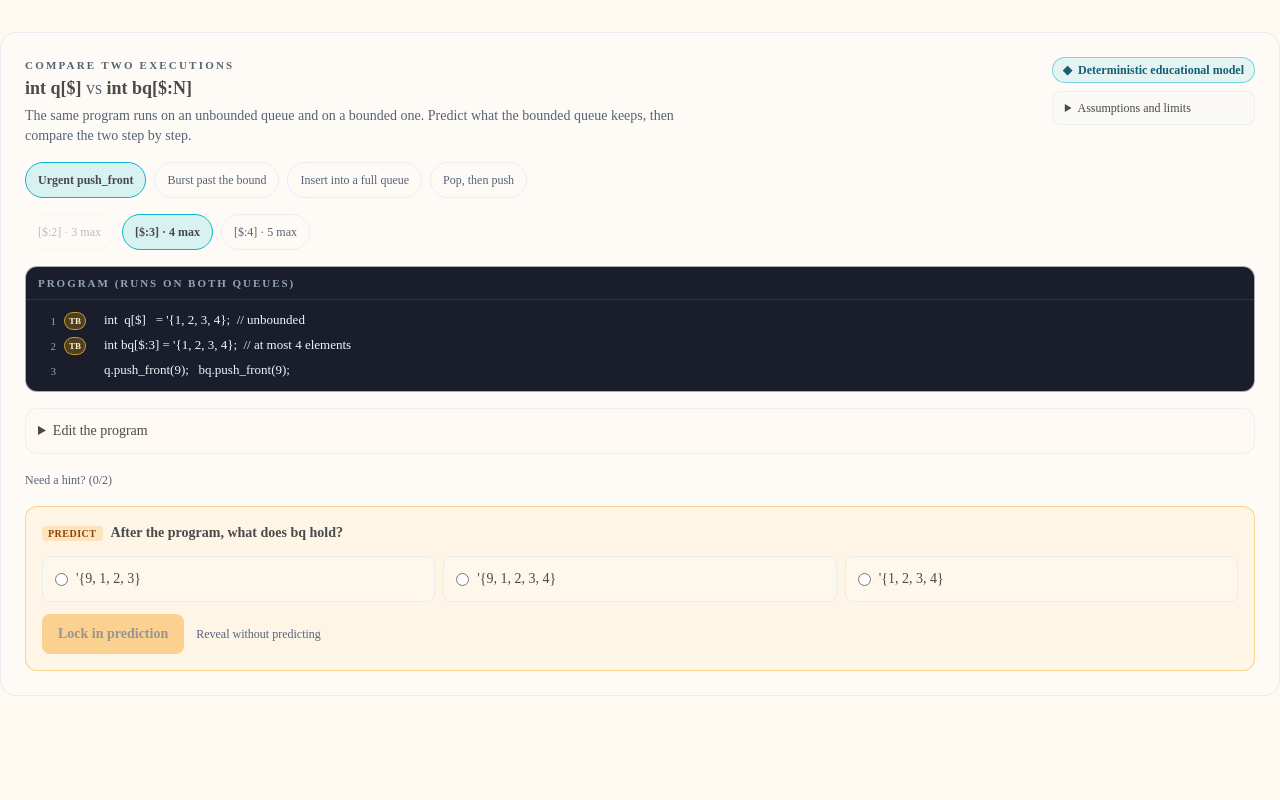
Test: QueueOperationLab (q[$] vs q[$:N]) › §7.10.5: hides the comparison until the learner predicts push_front on a full bq[$:3]
The width and height of the screenshot is (1280, 800).
Click the radio button labelled "'{1, 2, 3, 4}" at (864, 580), box [858,573,871,586]
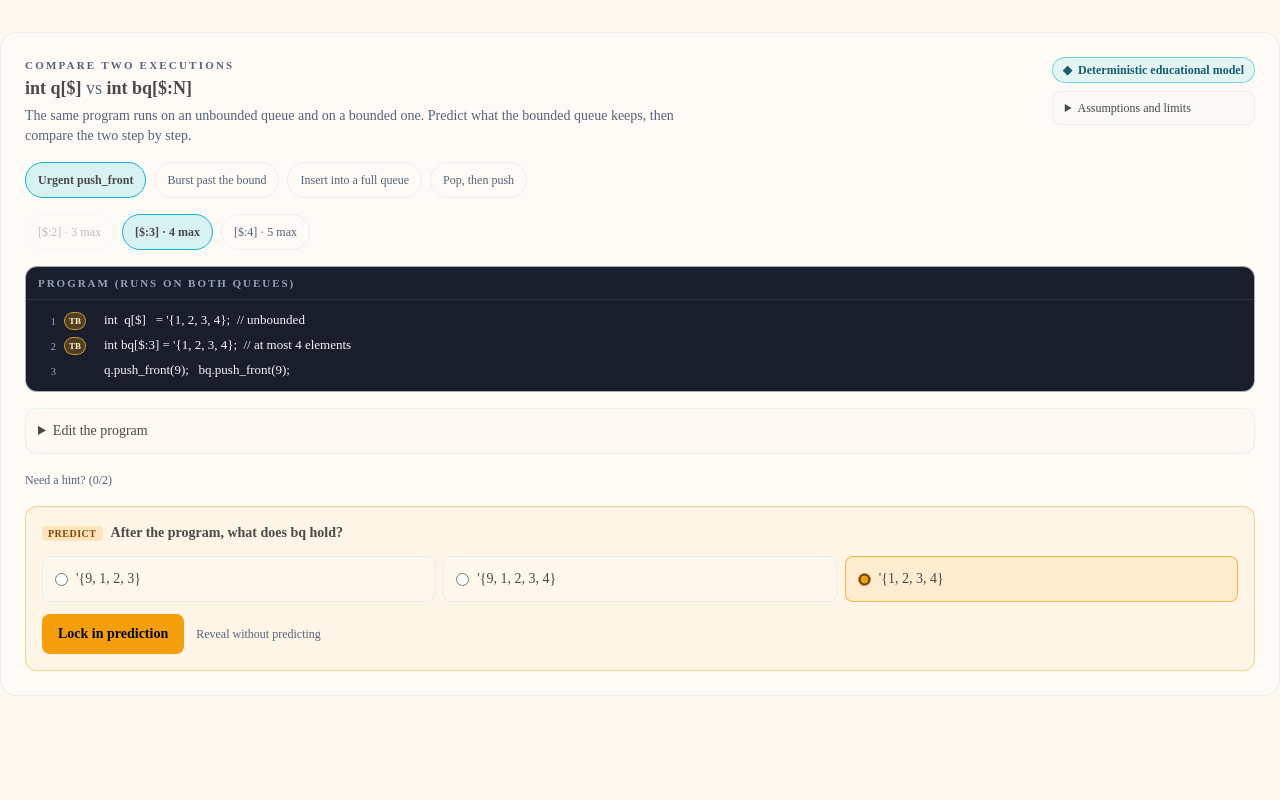
Click the button "Lock in prediction" at (113, 634), box [42,614,184,654]
(page scrolled)
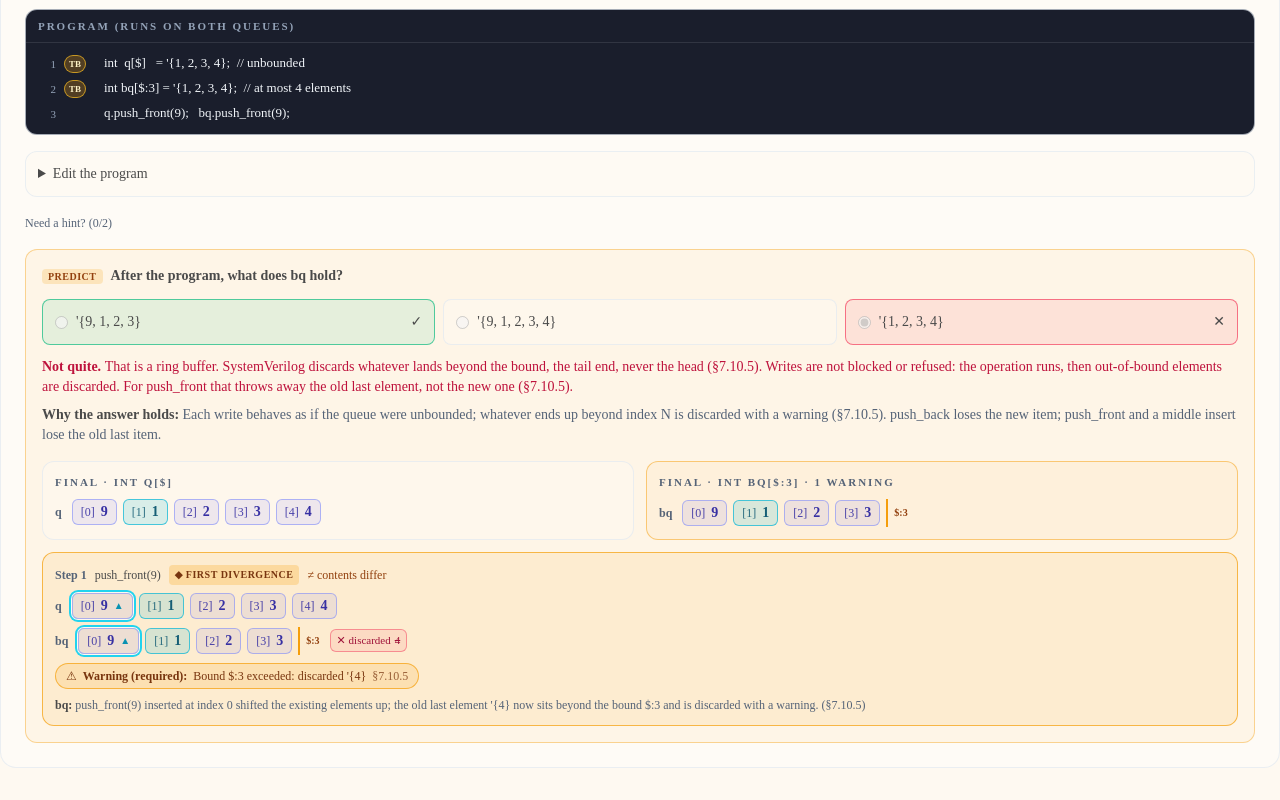
Check: the text "Not quite." is shown, box [42,359,105,374]
Check: the text "Writes are not blocked or refused" is shown, box [42,359,1222,394]
Check: the text "◆ first divergence" is shown, box [169,564,300,584]
